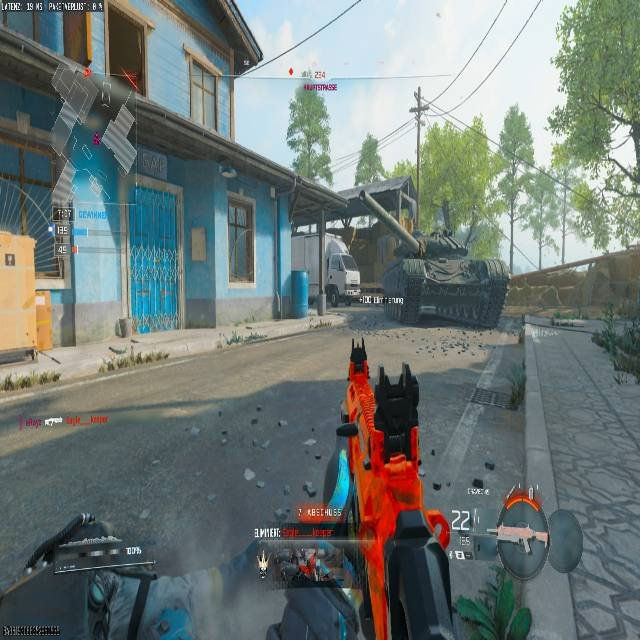player: (254, 540, 362, 640)
